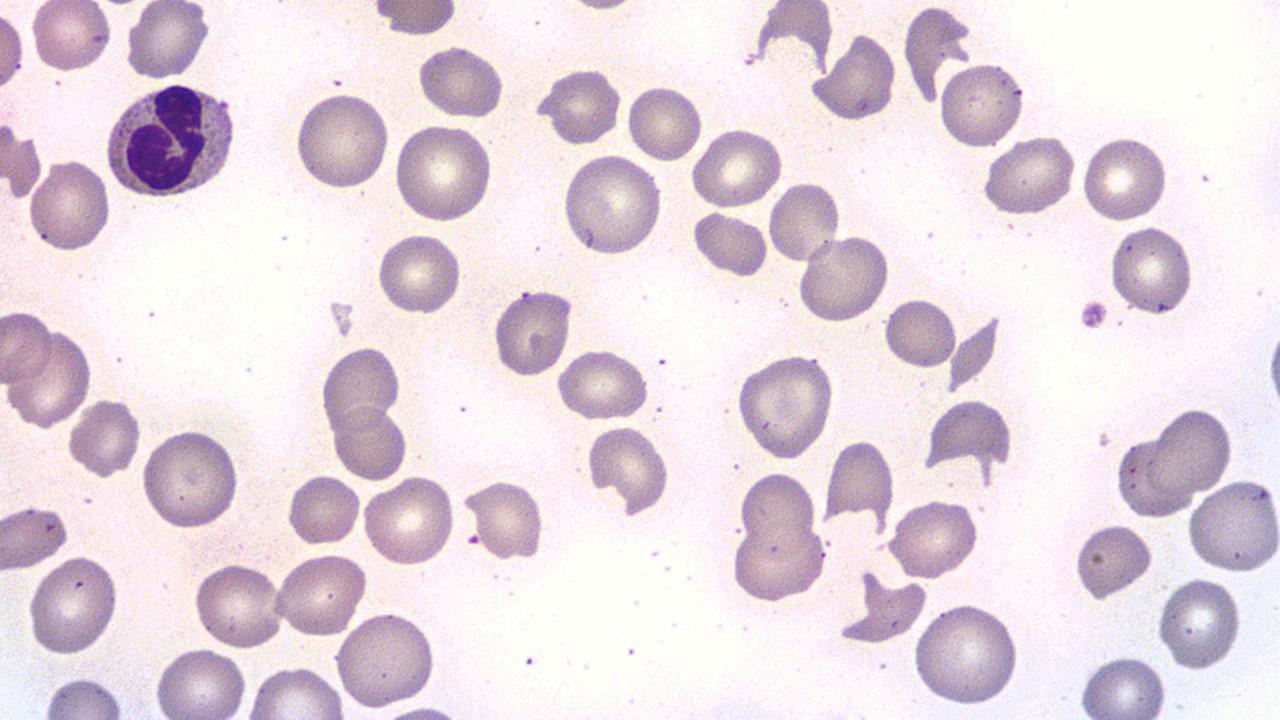Platelets: (1076, 297, 1110, 332)
RBC: (3, 348, 303, 710), (0, 0, 230, 380), (910, 599, 1023, 711), (734, 352, 837, 461), (140, 423, 243, 532), (560, 152, 664, 259), (333, 608, 440, 712), (392, 121, 495, 224), (291, 89, 392, 193), (25, 552, 122, 659), (3, 324, 94, 430), (361, 472, 458, 570), (920, 395, 1018, 490), (1185, 476, 1280, 574), (1154, 574, 1246, 674), (25, 155, 113, 256), (190, 558, 286, 650), (796, 233, 891, 324), (808, 29, 898, 125), (1108, 221, 1196, 319), (980, 132, 1078, 219), (273, 550, 369, 638), (1079, 132, 1169, 224), (937, 59, 1026, 152), (886, 496, 980, 582), (728, 524, 828, 604), (375, 229, 464, 318), (690, 126, 783, 210), (491, 286, 574, 380), (318, 344, 403, 434), (554, 345, 652, 423), (590, 423, 672, 516), (151, 644, 252, 719), (902, 0, 972, 107), (736, 466, 820, 554), (1153, 404, 1235, 494), (416, 41, 508, 120), (538, 64, 624, 148), (825, 435, 897, 534), (1114, 431, 1194, 520), (124, 0, 210, 82), (624, 79, 704, 166), (465, 477, 544, 565), (1073, 520, 1155, 604), (767, 176, 842, 265), (330, 400, 410, 482), (66, 396, 143, 481), (1073, 652, 1171, 718), (30, 0, 113, 75), (284, 469, 362, 548), (881, 294, 959, 372), (245, 662, 348, 718), (690, 209, 768, 279), (945, 308, 1002, 397), (0, 501, 71, 571), (0, 307, 54, 390), (39, 674, 129, 719), (370, 2, 460, 39), (0, 5, 26, 99)
WBC: (716, 0, 1280, 720), (101, 77, 243, 203), (922, 394, 1016, 497), (366, 1, 464, 36)
